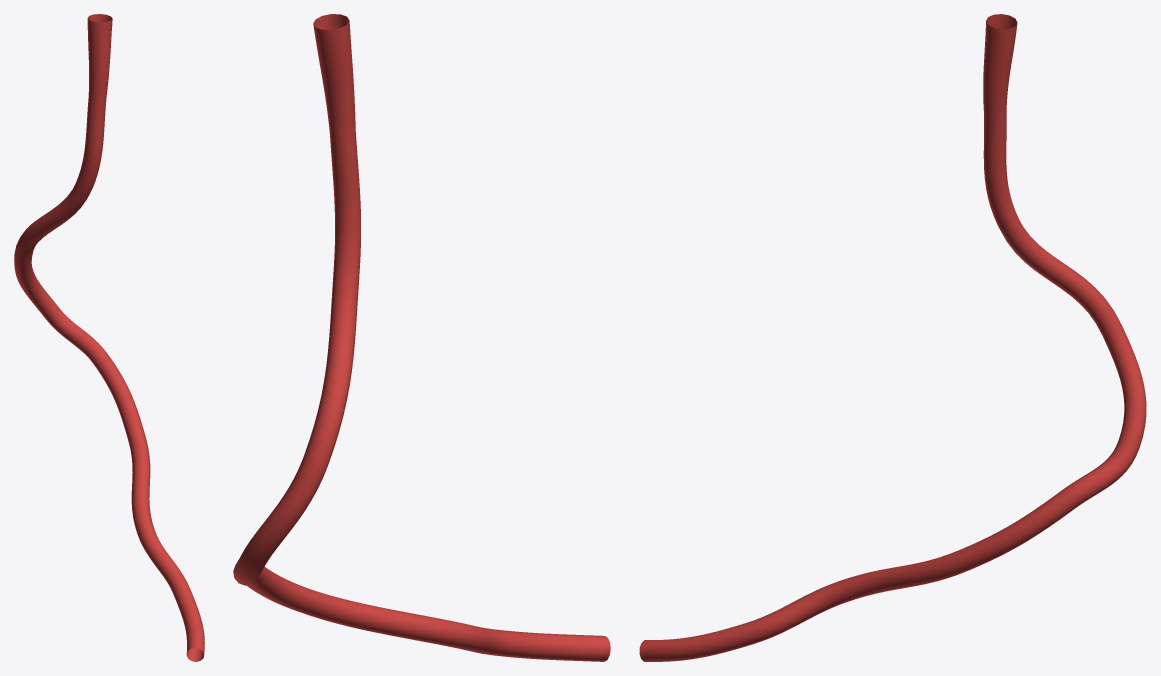
3 views of the same model, side by side, from view 1: azimuth 30°, elevation 25°; view 2: azimuth 150°, elevation 25°; view 3: azimuth 270°, elevation 25° (orthographic). The views are drawn at different scales.
Visible parts, largest first — view 1: 左侧面动脉; view 2: 左侧面动脉; view 3: 左侧面动脉.
Part boxes in pixels (left/top/right/bottom): 左侧面动脉: left=14, top=14, right=204, bottom=661; 左侧面动脉: left=233, top=14, right=610, bottom=661; 左侧面动脉: left=639, top=14, right=1146, bottom=661.
Bounding box in the file's own units: 0.0171 × 0.0965 × 0.0663.
